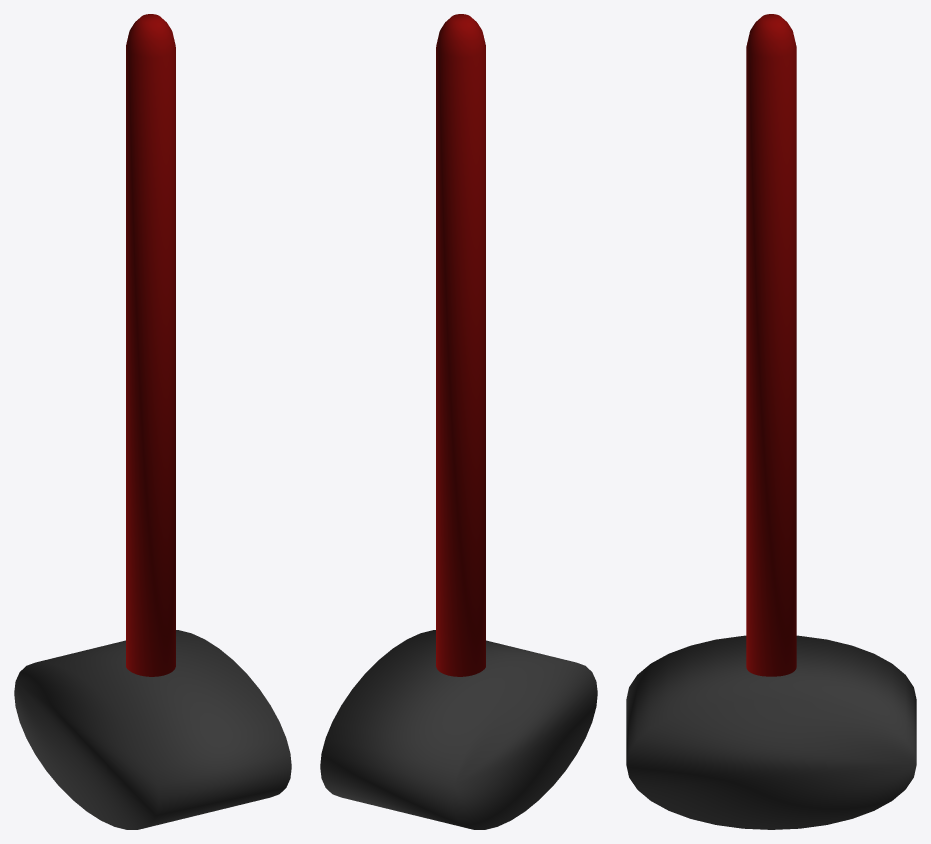
Rendered from Lever.fbx.
3 renders of one model, left to right at view 1: azimuth 30°, elevation 25°; view 2: azimuth 150°, elevation 25°; view 3: azimuth 270°, elevation 25°, orthographic.
Parts seen in each view (by area): view 1: Rail switch pivot.001; view 2: Rail switch pivot.001; view 3: Rail switch pivot.001.
Boxes of the visible parts, x1,y1,x2,y2 form: Rail switch pivot.001: (14, 14, 291, 829); Rail switch pivot.001: (320, 14, 597, 829); Rail switch pivot.001: (626, 14, 916, 829).
Size of the model in its own units: 44.28 by 248 by 83.93.
